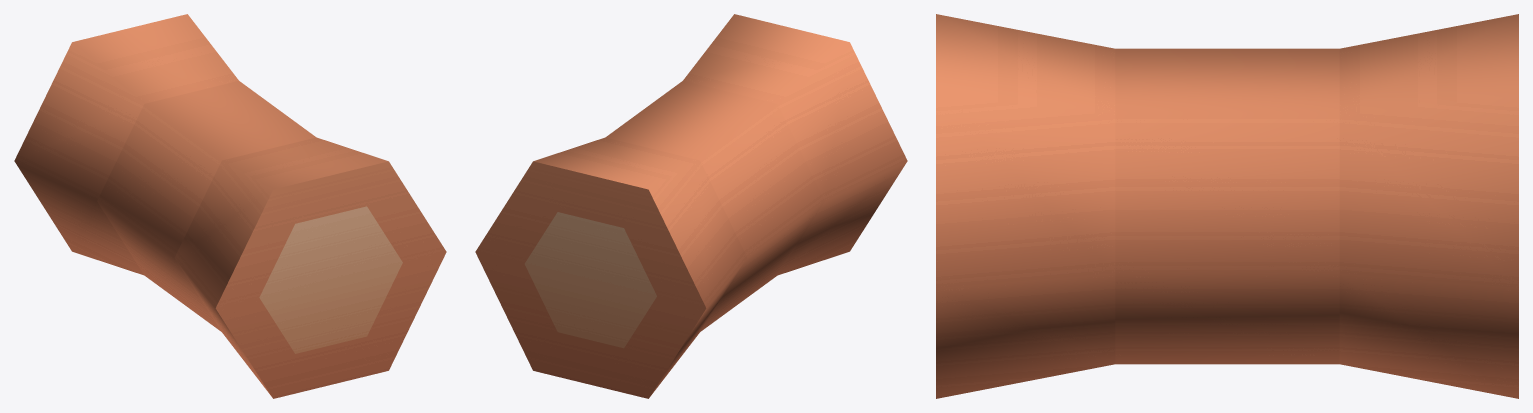
The model's file is small_log.glb.
3 renders of one model, left to right at view 1: azimuth 30°, elevation 25°; view 2: azimuth 150°, elevation 25°; view 3: azimuth 270°, elevation 25°, orthographic. The views are drawn at different scales.
Parts seen in each view (by area): view 1: tree-log-small; view 2: tree-log-small; view 3: tree-log-small.
Part boxes in pixels (left/top/right/bottom): tree-log-small: left=14, top=14, right=446, bottom=398; tree-log-small: left=475, top=14, right=907, bottom=398; tree-log-small: left=936, top=14, right=1518, bottom=398.
Bounding box in the file's own units: 0.244 × 0.2113 × 0.3681.
1 material, 1 textured.
